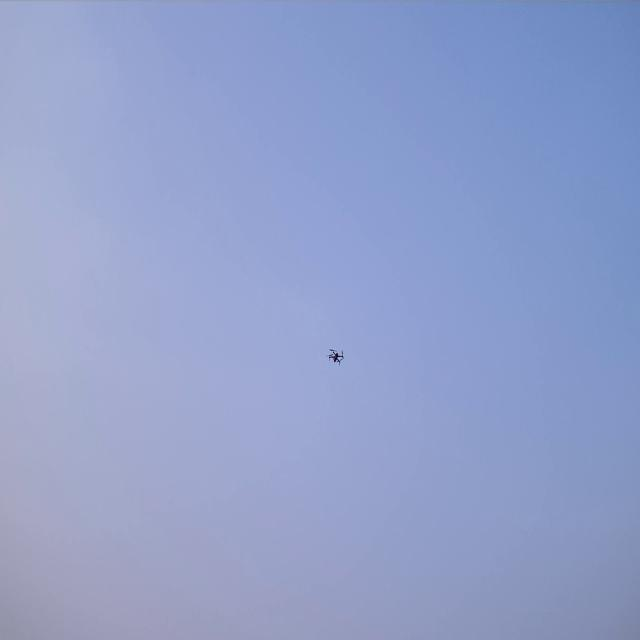UAV: (325, 347, 345, 366)
